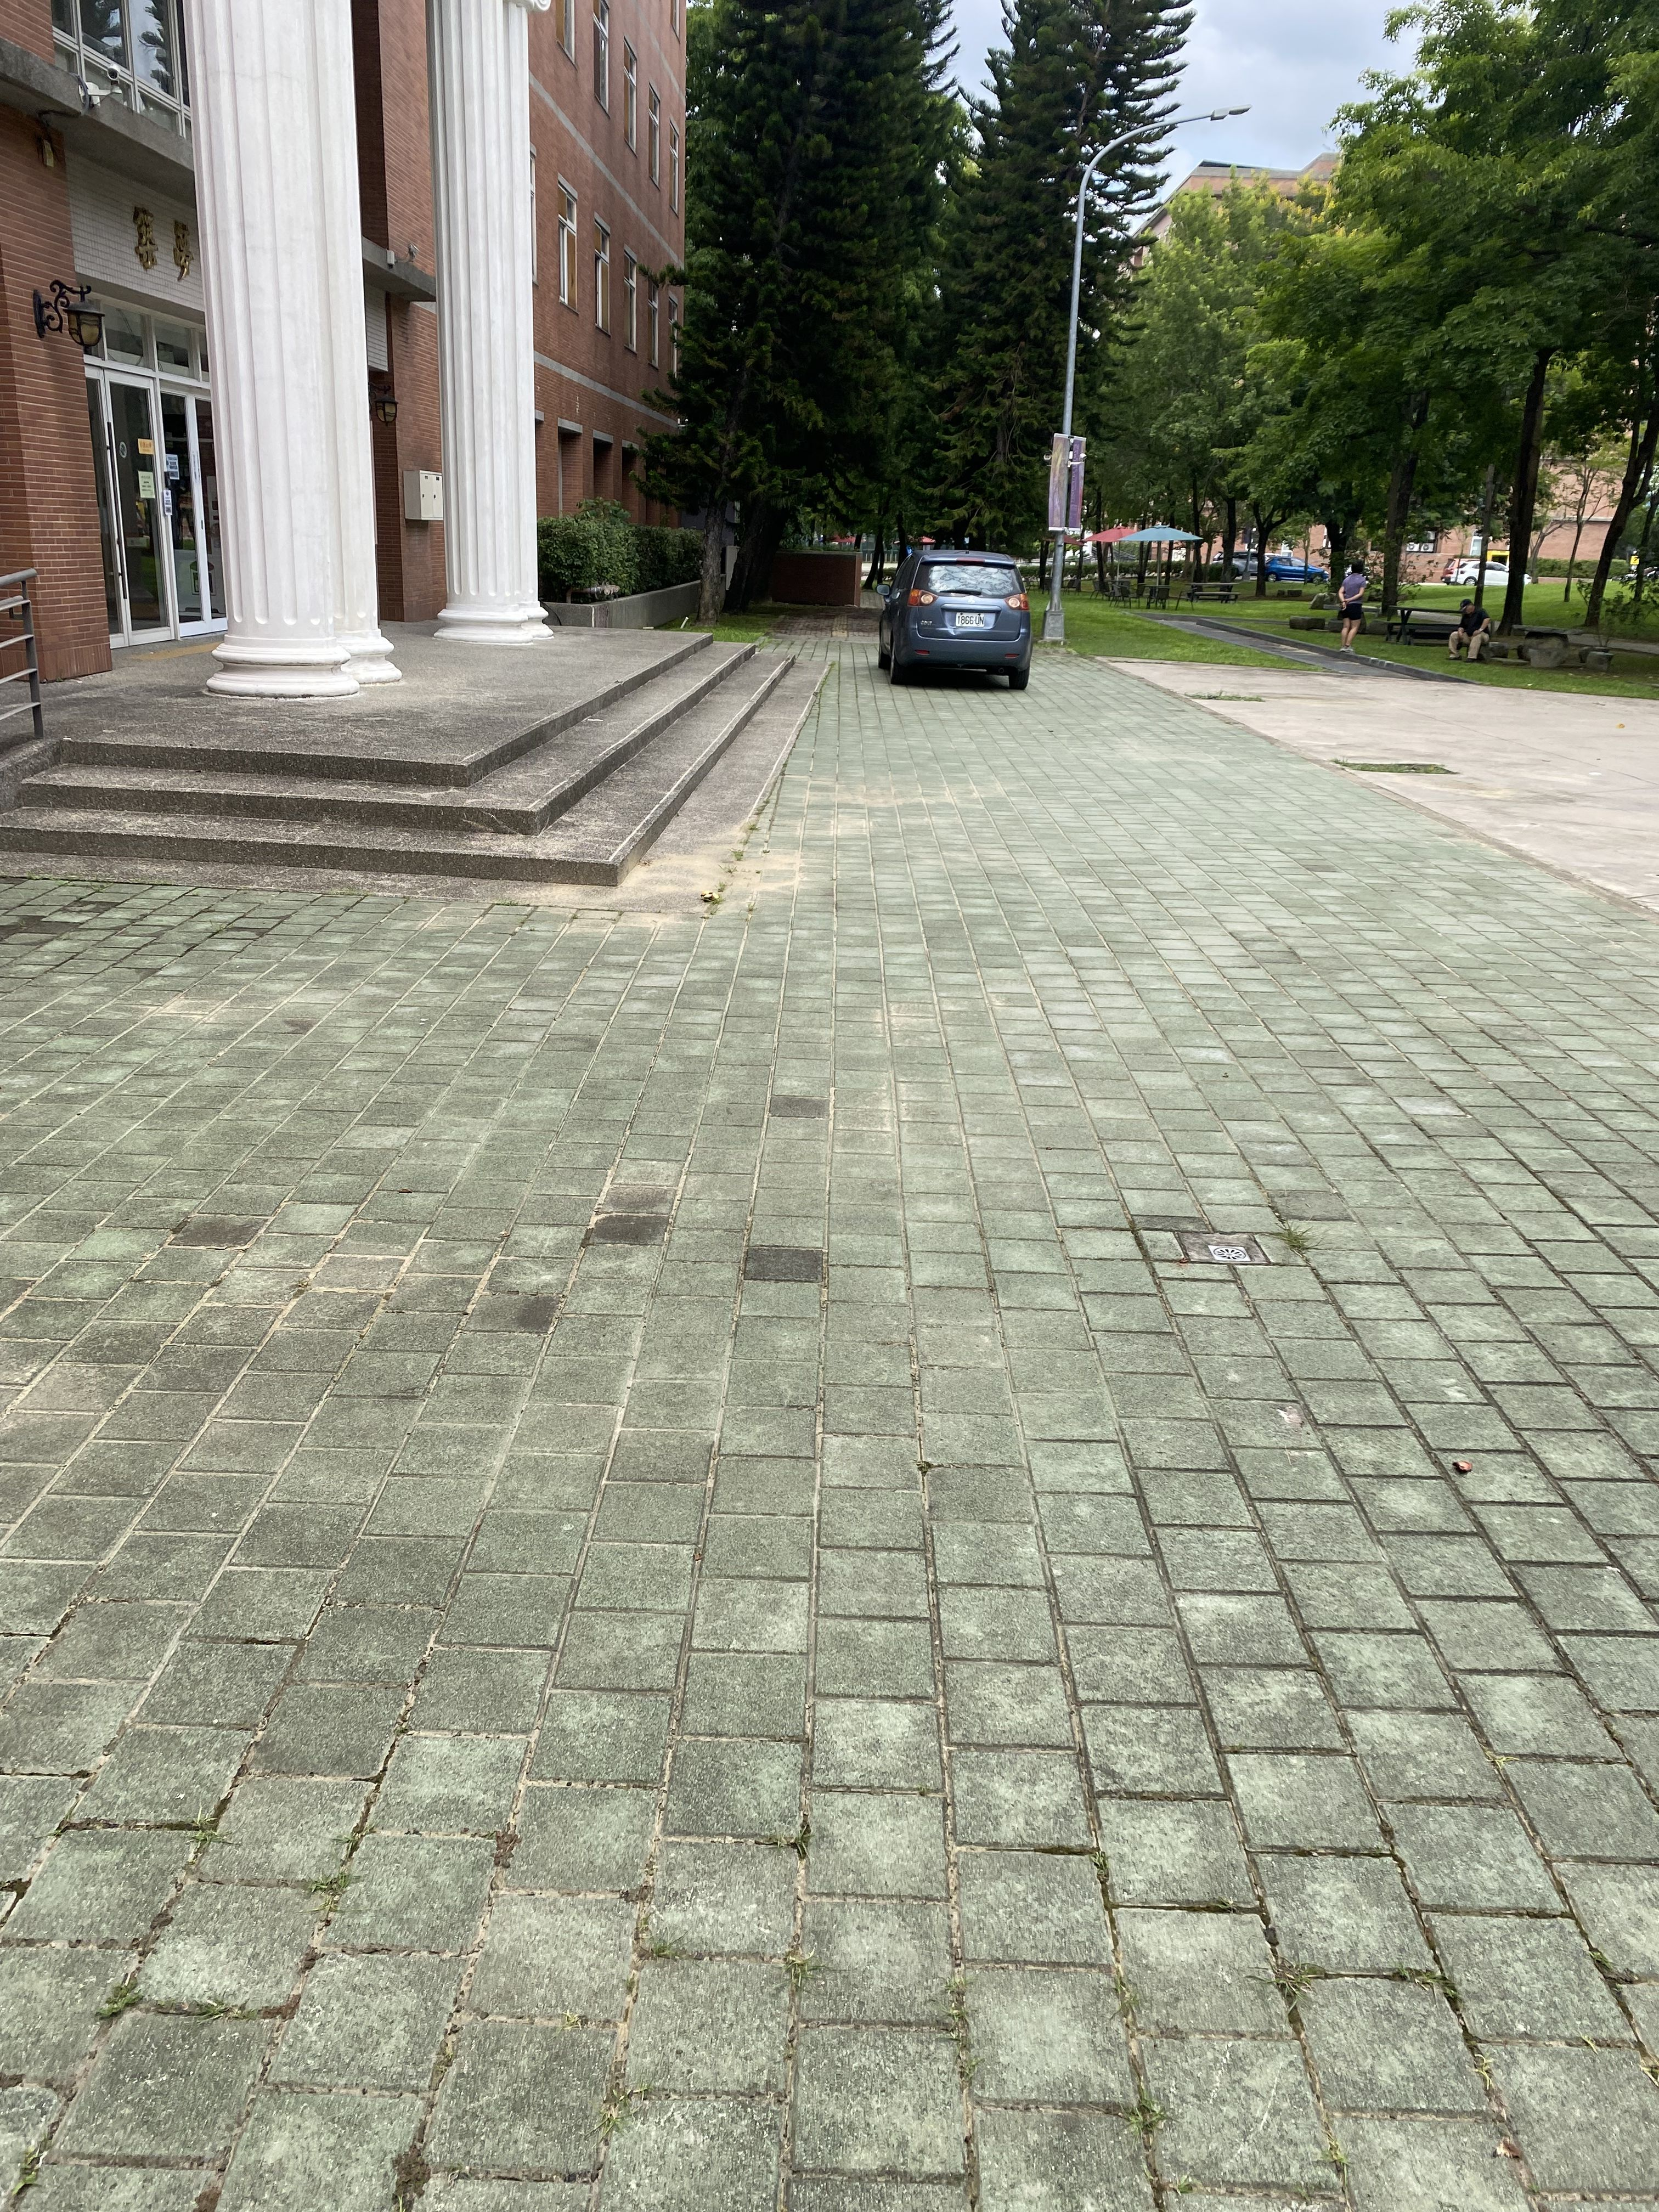sidewalk: (3, 578, 1659, 2196)
